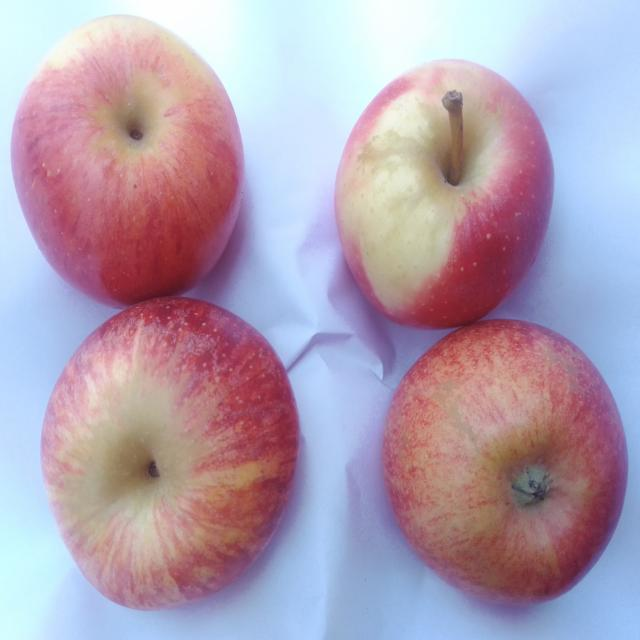Fresh Apple: (45, 310, 310, 600), (373, 325, 627, 598), (15, 39, 242, 294), (340, 69, 537, 328)
